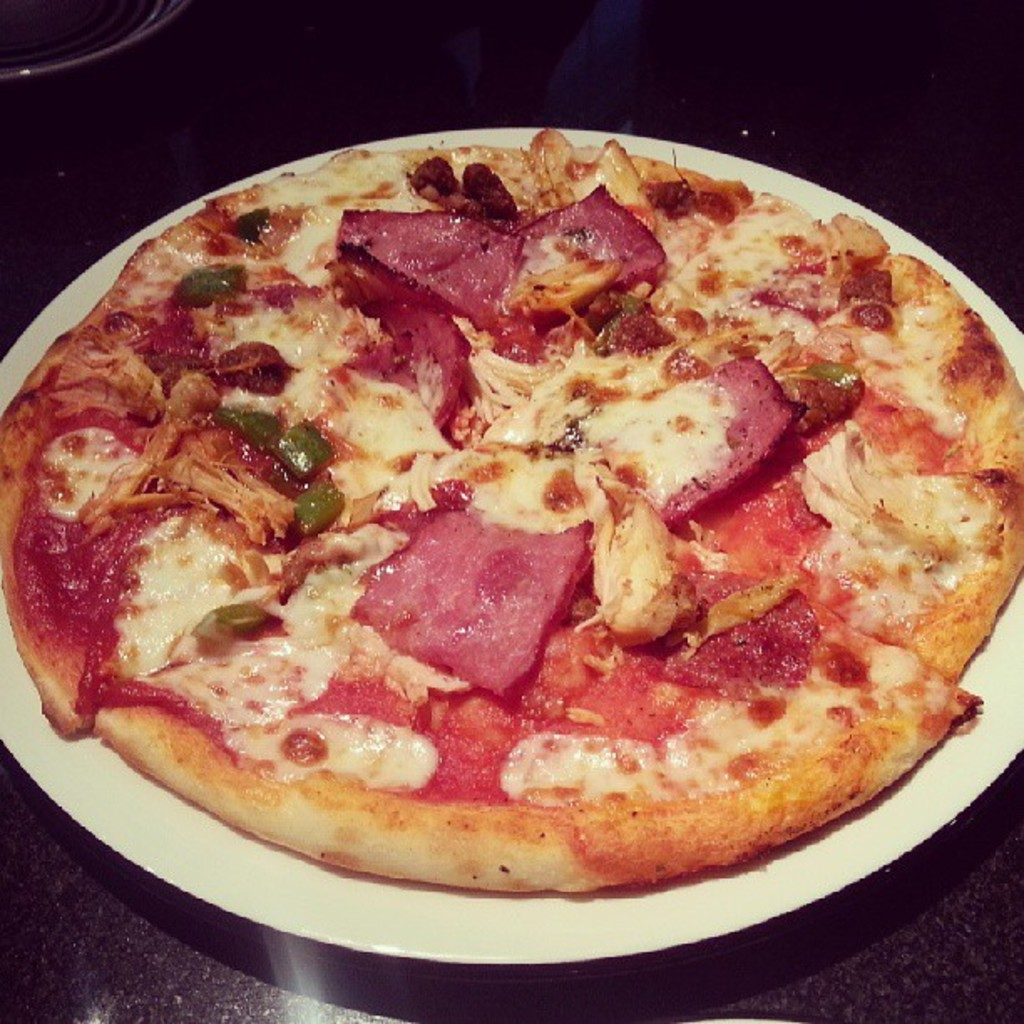Pizza: (0, 127, 1022, 896)
